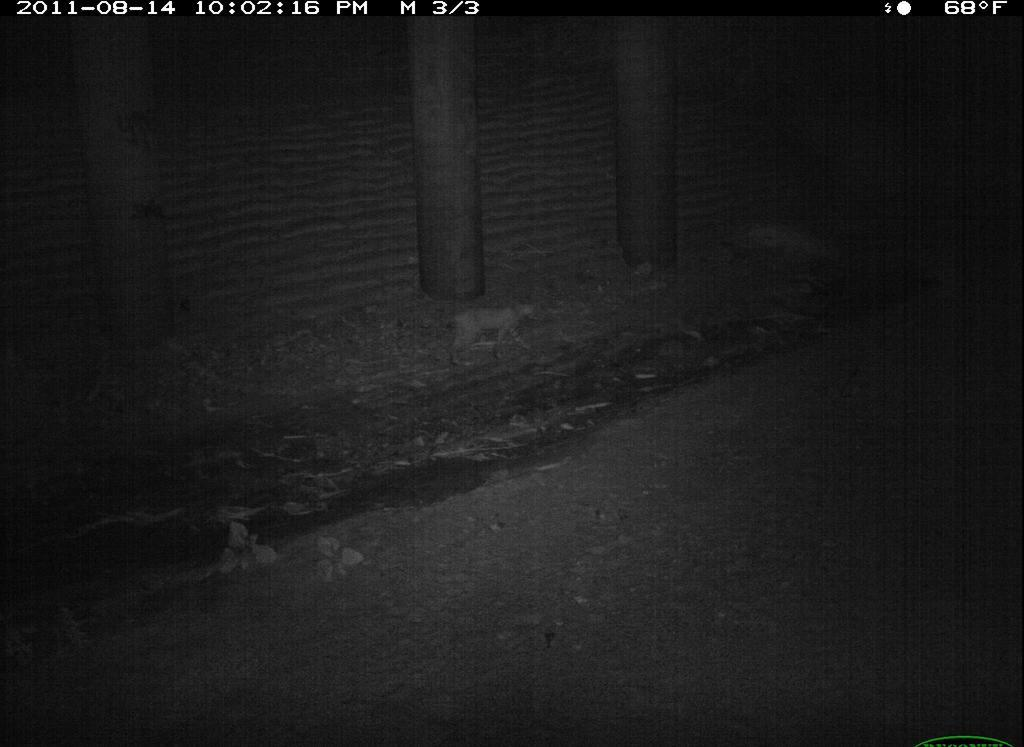bobcat: (882, 580, 1024, 743)
